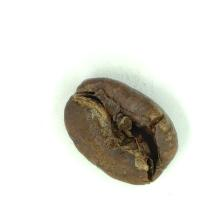NG: (87, 91, 163, 170)
